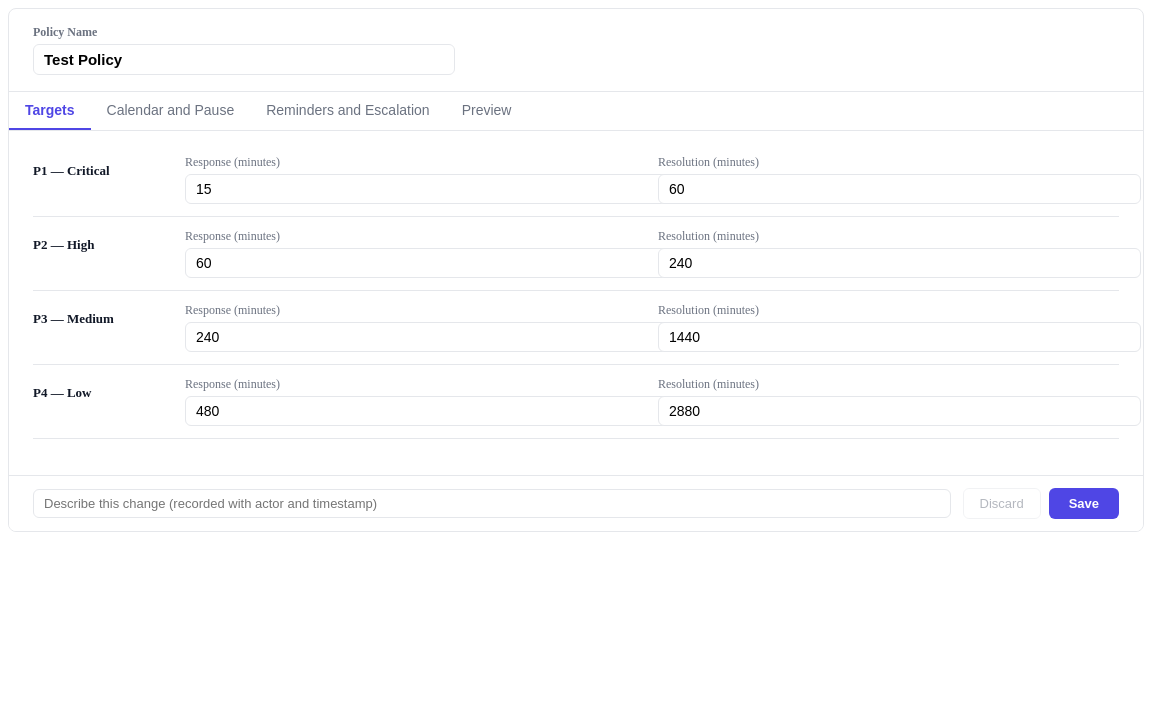
Test: PolicyEditor › 400 server error details are mapped to the correct form field
Replace the text in the field with placeholder "e.g. Default SLA Policy" with "Taken Name". click: (244, 60)
box: [33,44,455,75]
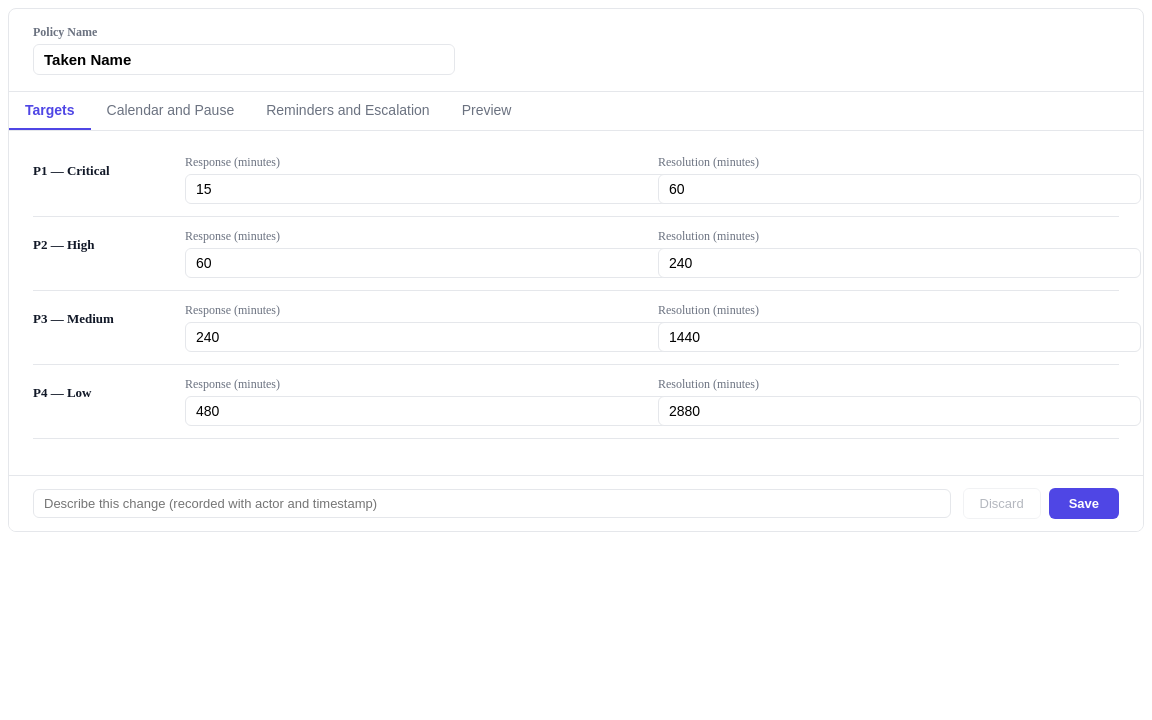
Click the button with aria-label "save policy". click: (1084, 504)
box: [1049,488,1119,519]
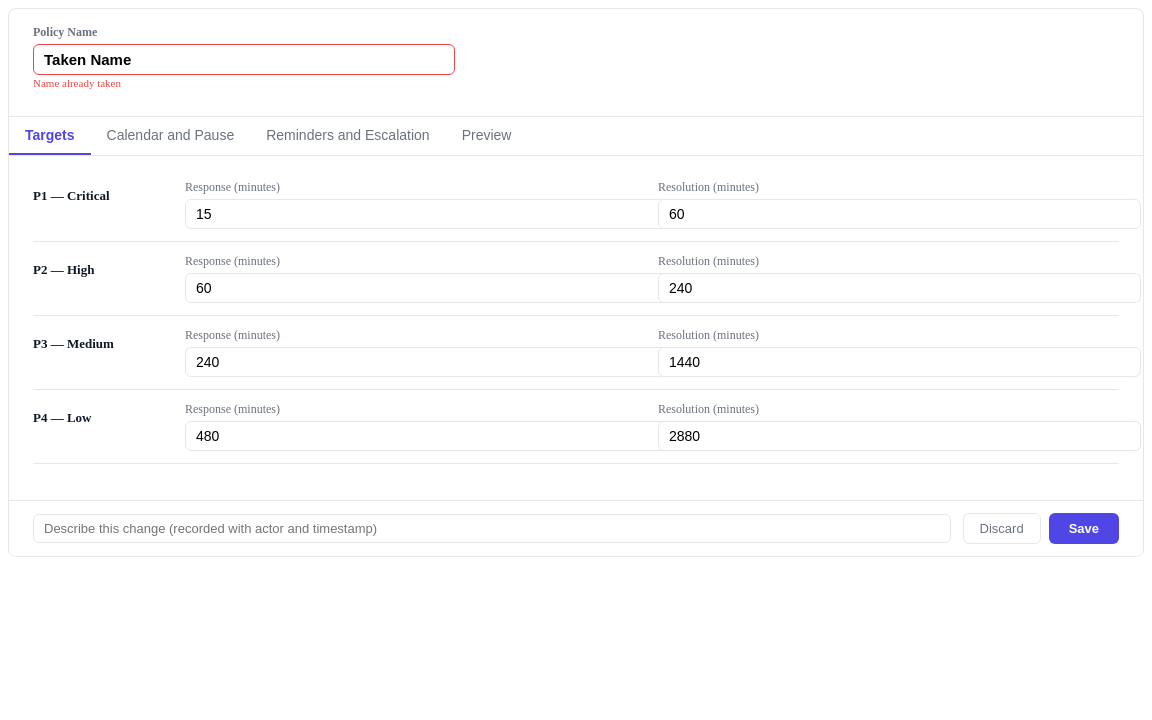
Expected: the message reads "Name already taken", [33,77,121,89]
